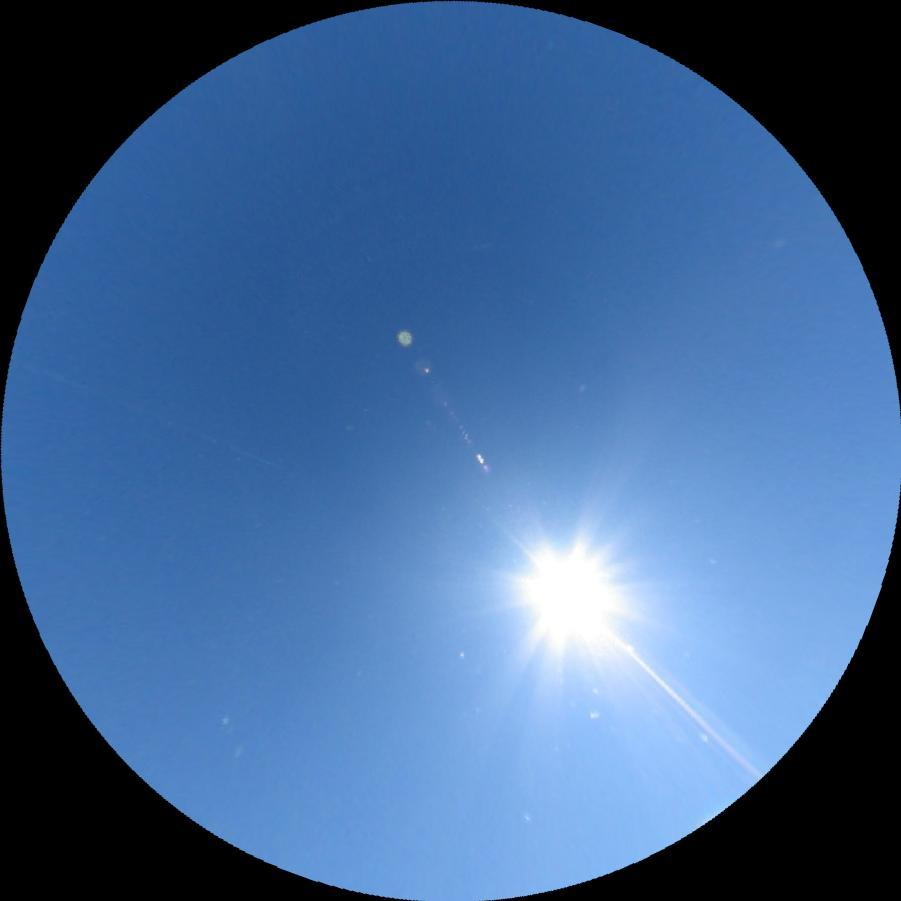contrail young: (464, 240, 496, 251)
parasite: (601, 624, 762, 781)
sun: (515, 537, 625, 654)
